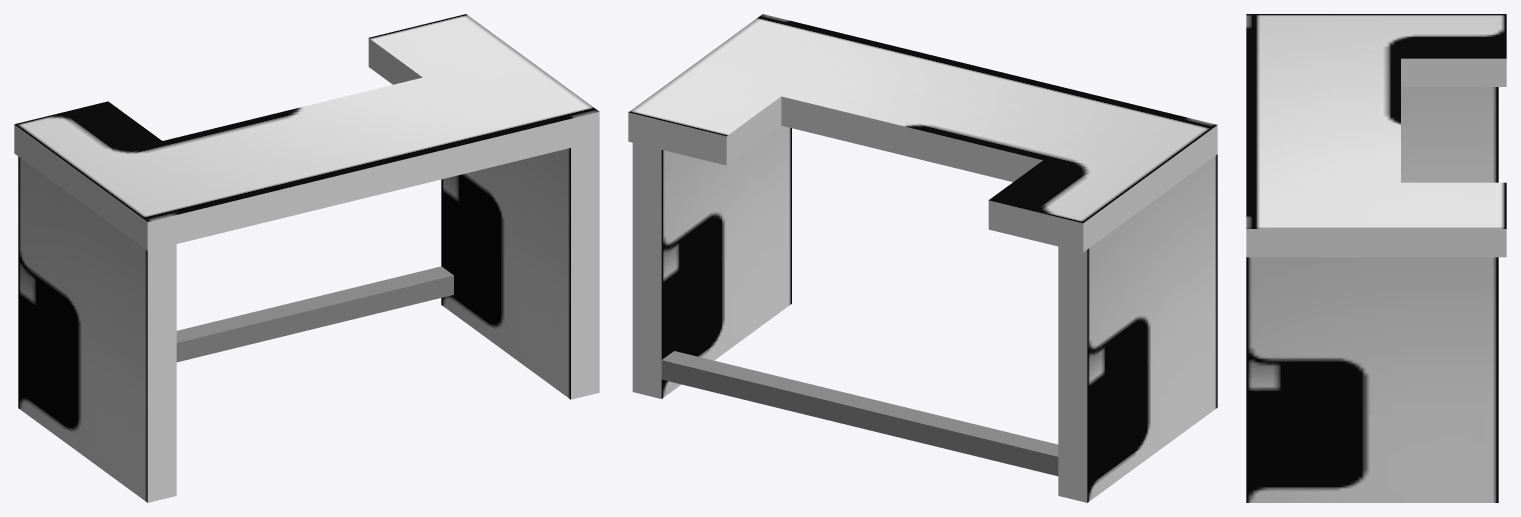
The model's file is Building_SchoolDesk.obj.
3 renders of one model, left to right at view 1: azimuth 30°, elevation 25°; view 2: azimuth 150°, elevation 25°; view 3: azimuth 270°, elevation 25°, orthographic. The views are drawn at different scales.
Visible parts, largest first — view 1: Body; view 2: Body; view 3: Body.
Part boxes in pixels (x1,y1,x2,y2): Body: (14, 14, 599, 502); Body: (628, 14, 1217, 502); Body: (1246, 14, 1506, 502).
Size of the model in its own units: 0.9766 by 0.58 by 0.5.
1 material, 1 textured.
